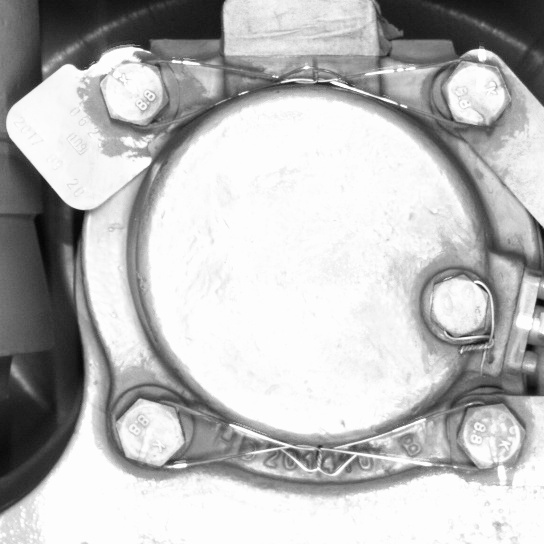IronWire: (92, 44, 521, 143), (107, 389, 533, 482)
Screw: (430, 45, 519, 138), (91, 47, 179, 140), (106, 388, 192, 477), (419, 263, 497, 355), (449, 395, 532, 479)
